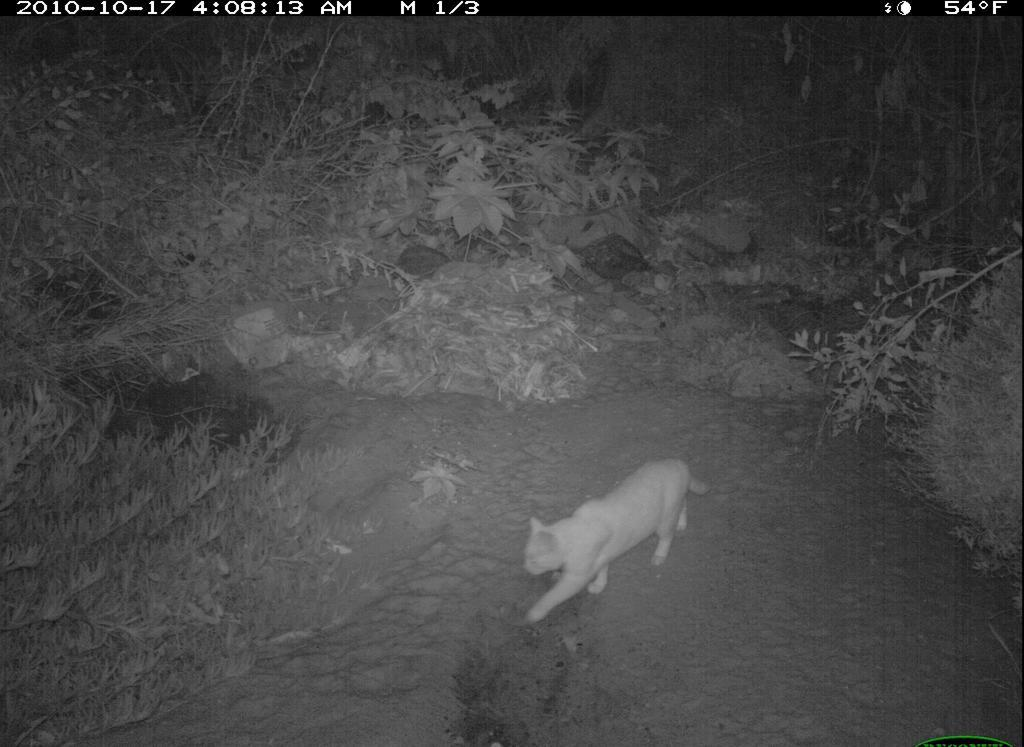cat: (511, 447, 718, 632)
